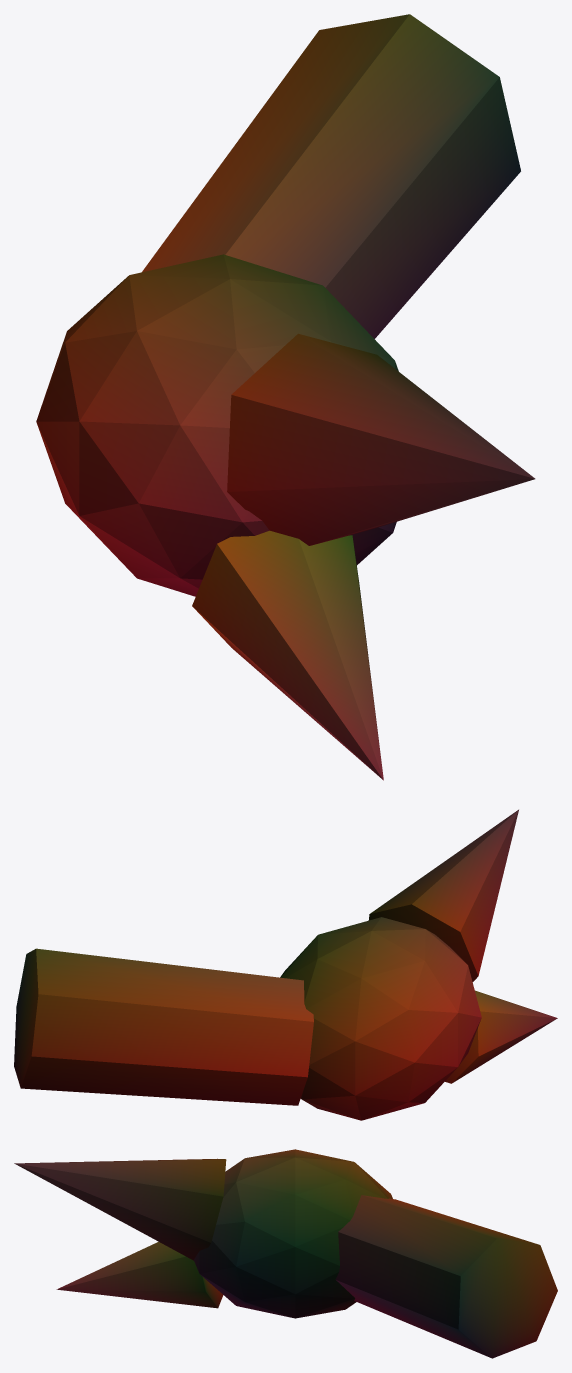
File: Pincer.fbx
3 renders of one model, top to bottom at view 1: azimuth 30°, elevation 25°; view 2: azimuth 150°, elevation 25°; view 3: azimuth 270°, elevation 25°, orthographic. The views are drawn at different scales.
Parts seen in each view (by area): view 1: Pincer; view 2: Pincer; view 3: Pincer.
Part boxes in pixels (x1=…): Pincer: x1=36, y1=14, x2=535, y2=780; Pincer: x1=14, y1=809, x2=557, y2=1120; Pincer: x1=14, y1=1149, x2=557, y2=1358.
Bounding box in the file's own units: 0.4967 × 0.2588 × 0.7735.
